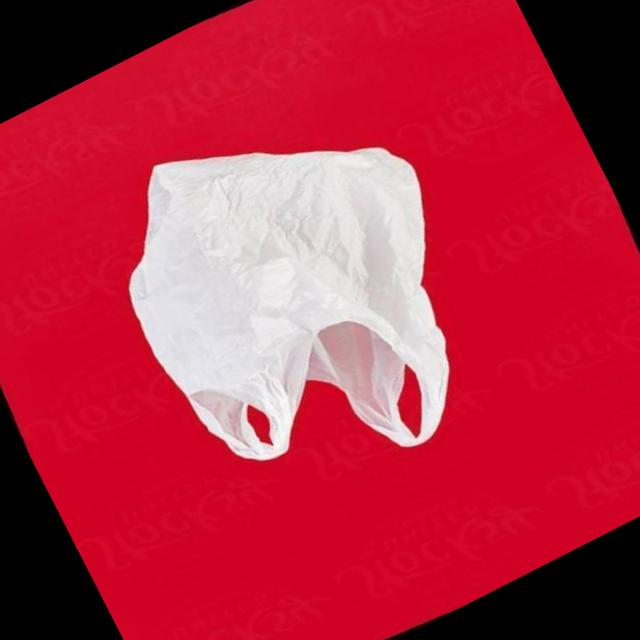KantongPlastik: (74, 61, 530, 538)
